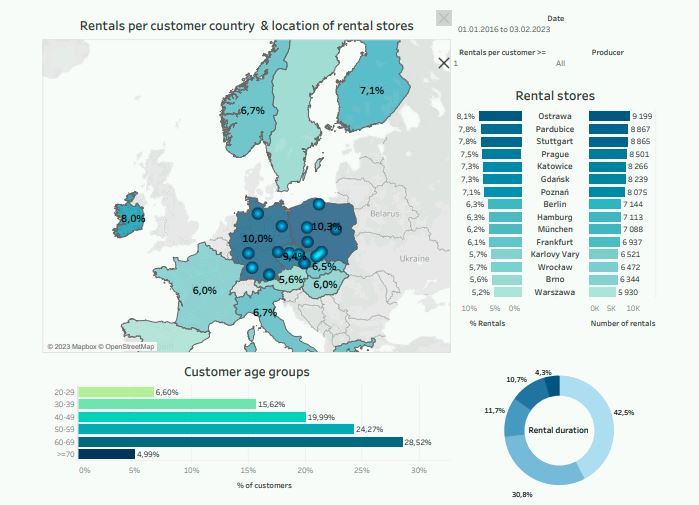

This screenshot's page, from the dashboard's own definition file:
{"tool":"tableau","page":{"name":"Map","canvas":[1000,800],"ordinal":1},"visuals":[{"type":"worksheet","title":"Customer origin","mark":"Automatic","box":[8,8,658,551]},{"type":"dashboard-object","box":[639,8,24,24]},{"type":"filter","title":"Customer age","param":"[federated.0tyu3dl15r48fw19yhpgz13aizhk].[none:calendar_DATE:qk]","box":[666,8,326,54]},{"type":"parameter","param":"[Parameters].[Customer country param (copy 2)]","box":[664,66,160,44]},{"type":"filter","title":"Customer origin","param":"[federated.0tyu3dl15r48fw19yhpgz13aizhk].[none:producer:nk]","box":[827,66,169,53]},{"type":"dashboard-object","box":[639,80,24,24]},{"type":"worksheet","title":"Rental store","mark":"Automatic","rows":["store_city"],"cols":["store_id","Calculation_305681882784944133","store_id"],"box":[666,124,326,430]},{"type":"worksheet","title":"Customer age","mark":"Automatic","cols":["Calculation_723953697631637504"],"box":[8,559,658,233]},{"type":"worksheet","title":"Rental duration","mark":"Pie","rows":["Calculation_305681882784944133","Calculation_305681882784944133"],"box":[671,560,326,236]}]}

Visuals, with their boxes on the page's 1000x800 design canvas (x1, y1, x2, y2). These are canvas units, not pixel positions in the 699x505 screenshot, which may show the page scaled, cropped or inside an application window:
"Customer origin" worksheet: 8/8/666/559
dashboard-object: 639/8/663/32
"Customer age" filter: 666/8/992/62
parameter: 664/66/824/110
"Customer origin" filter: 827/66/996/119
dashboard-object: 639/80/663/104
"Rental store" worksheet: 666/124/992/554
"Customer age" worksheet: 8/559/666/792
"Rental duration" worksheet (Pie marks): 671/560/997/796
